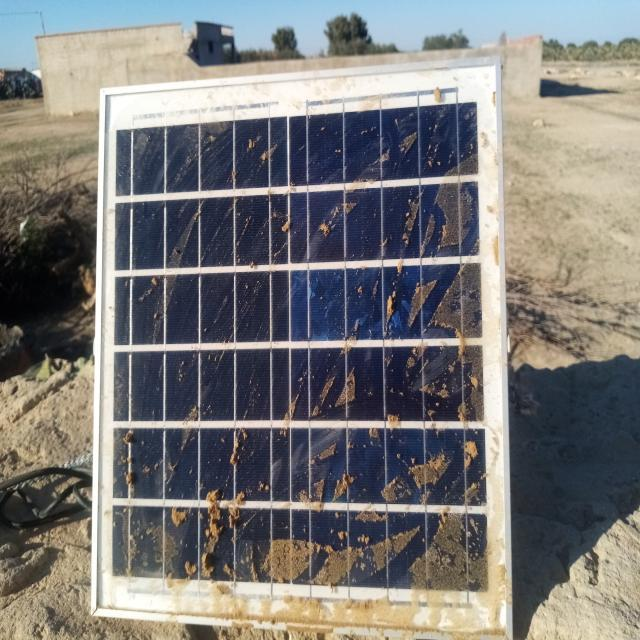faulty: (94, 62, 508, 638)
